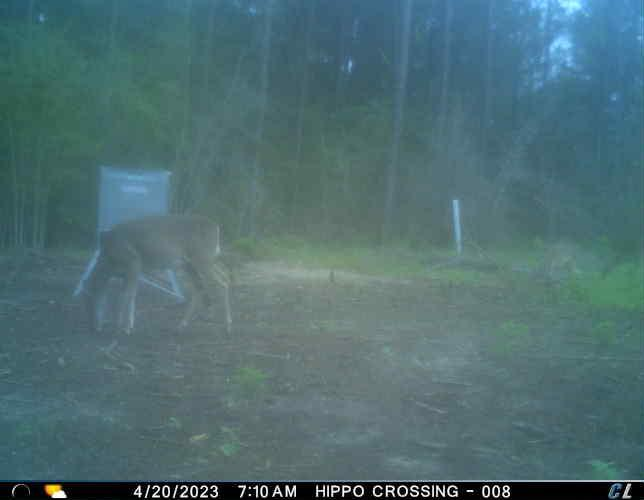Deer: (79, 212, 233, 339)
